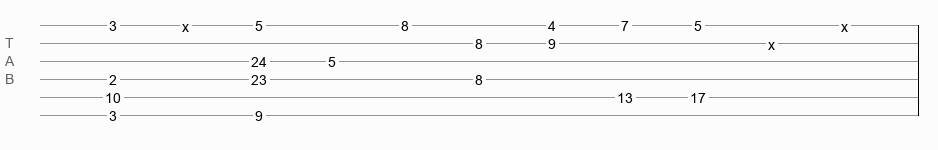10: (105, 90, 121, 100)
13: (617, 90, 633, 100)
17: (690, 90, 706, 100)
2: (109, 72, 117, 82)
23: (251, 72, 267, 82)
24: (251, 54, 267, 64)
3: (109, 108, 117, 118), (109, 18, 117, 28)
4: (548, 18, 556, 28)
5: (255, 18, 263, 28), (328, 54, 336, 64), (694, 18, 702, 28)
7: (621, 18, 629, 28)
8: (401, 18, 409, 28), (475, 36, 483, 46), (475, 72, 483, 82)
9: (255, 108, 263, 118), (548, 36, 556, 46)
x: (182, 19, 189, 27), (768, 37, 775, 45), (841, 19, 848, 27)
